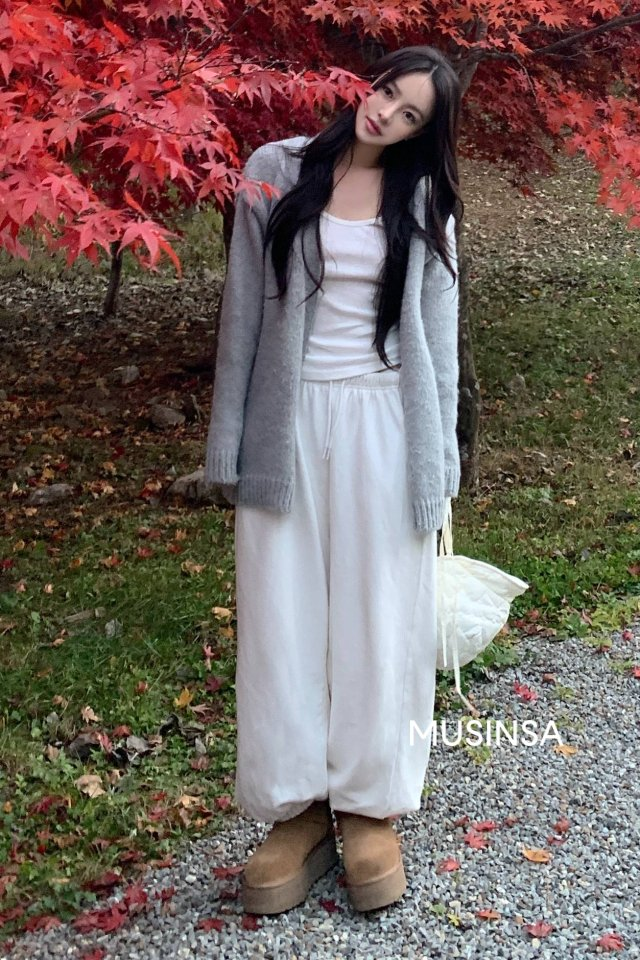Bag: (431, 494, 532, 690)
Outer: (207, 130, 462, 504)
Shoes: (235, 804, 415, 911)
Training pants: (234, 370, 441, 812)
